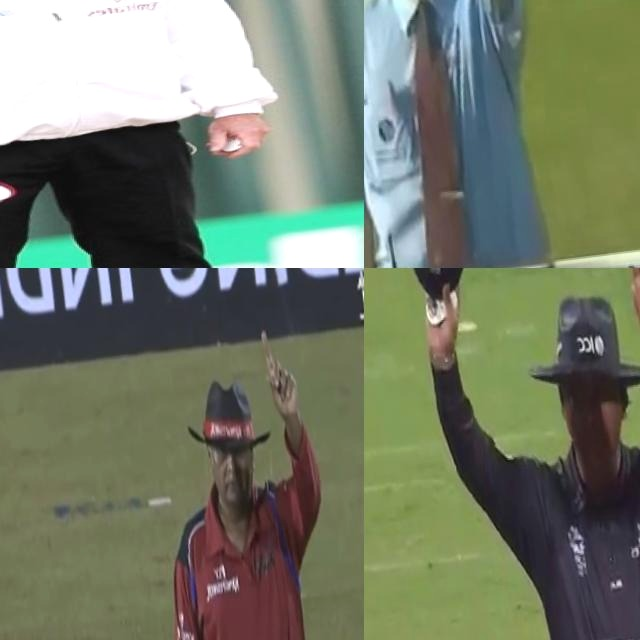No_Action: (0, 0, 308, 268)
Out: (125, 314, 361, 640), (364, 0, 567, 268)
Six: (400, 268, 640, 640)
